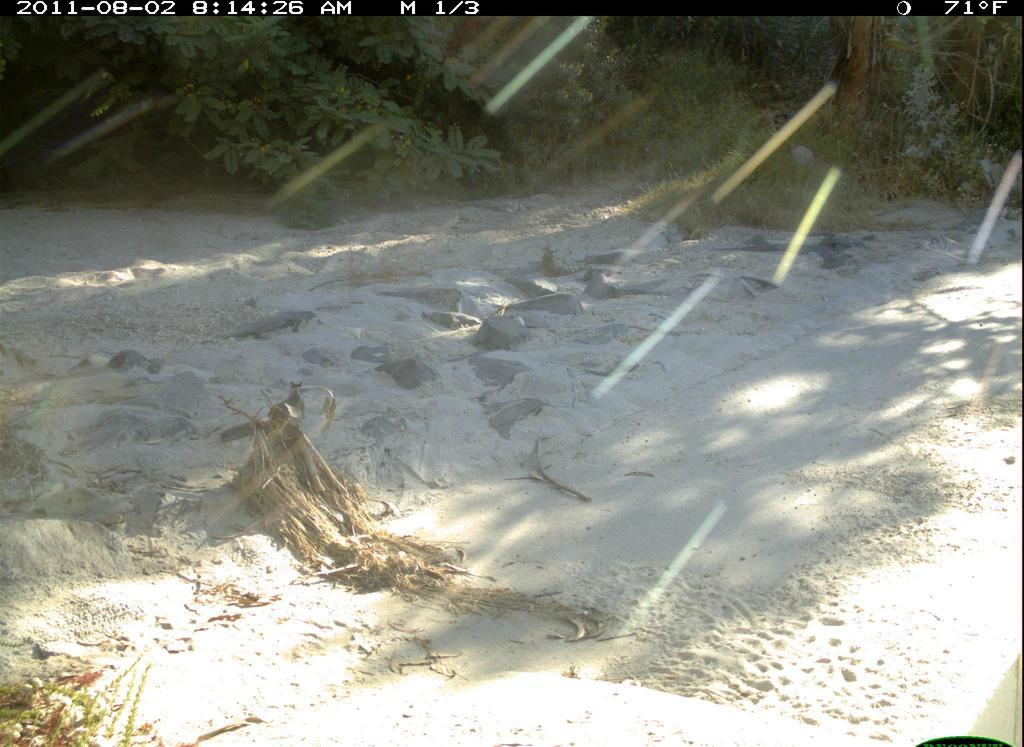squirrel: (215, 377, 322, 446)
